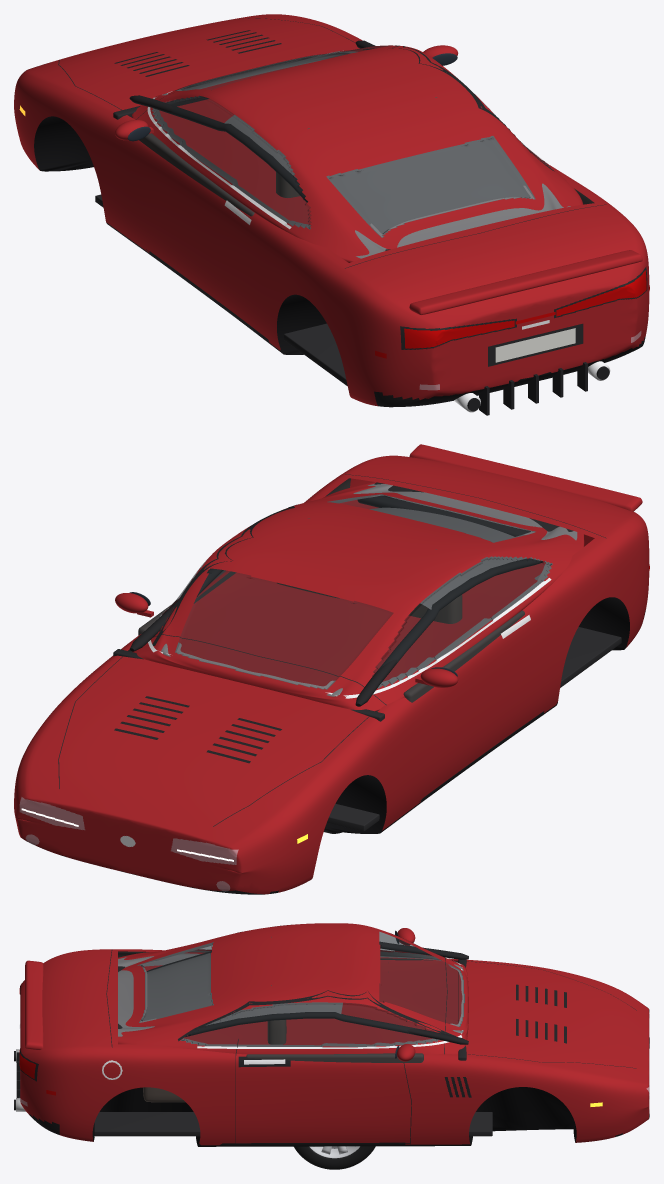
The model's file is car.glb.
The picture shows the model from 3 angles, top to bottom: view 1: azimuth 30°, elevation 25°; view 2: azimuth 150°, elevation 25°; view 3: azimuth 270°, elevation 25°; orthographic projection. The views are drawn at different scales.
Visible parts, largest first — view 1: Part_CarPaint.003, Part_CarPaint.006, Part_Headliner.001, Part_Headliner, Part_CarPaint.007, Part_CarPaint.005, Part_CarPaint.004, Part_CarPaint.008, Part_BlackPlastic, Part_CarPaint.001, Part_CarPaint.014, Part_CarPaint.009 (+1 smaller); view 2: Part_CarPaint.003, Part_CarPaint.006, Part_CarPaint.007, Part_Headliner, Part_CarPaint.004, Part_CarPaint.005, Part_Headliner.001, Part_BlackPlastic, Part_CarPaint.010, Part_CarPaint.014, Part_CarPaint.001, Part_CarPaint (+1 smaller); view 3: Part_CarPaint.003, Part_CarPaint.006, Part_CarPaint.004, Part_Headliner.001, Part_CarPaint.007, Part_CarPaint.005, Part_Headliner, Part_BlackPlastic.001, Part_CarPaint.014, Part_CarPaint.001, W_Rubber_Tire, Part_CarPaint (+1 smaller).
Part boxes in pixels (x1,y1,x2,y2): Part_CarPaint.003: (14, 14, 649, 406); Part_CarPaint.006: (152, 46, 550, 237); Part_Headliner.001: (224, 115, 530, 234); Part_Headliner: (152, 51, 570, 258); Part_CarPaint.007: (24, 18, 647, 385); Part_CarPaint.005: (106, 30, 645, 415); Part_CarPaint.004: (34, 116, 326, 354); Part_CarPaint.008: (375, 270, 649, 358); Part_BlackPlastic: (129, 95, 307, 202); Part_CarPaint.001: (147, 50, 610, 412); Part_CarPaint.014: (139, 133, 254, 216); Part_CarPaint.009: (495, 328, 575, 362); Part_CarPaint.003: (14, 444, 649, 894); Part_CarPaint.006: (162, 494, 552, 689); Part_CarPaint.007: (58, 474, 621, 831); Part_Headliner: (161, 483, 577, 696); Part_CarPaint.004: (324, 597, 629, 833); Part_CarPaint.005: (114, 504, 645, 893); Part_Headliner.001: (370, 507, 526, 609); Part_BlackPlastic: (355, 558, 544, 706); Part_CarPaint.010: (19, 797, 238, 891); Part_CarPaint.014: (138, 571, 524, 702); Part_CarPaint.001: (120, 578, 551, 846); Part_CarPaint: (277, 518, 462, 623); Part_CarPaint.003: (20, 923, 649, 1145); Part_CarPaint.006: (138, 932, 464, 1046); Part_CarPaint.004: (92, 1087, 576, 1146); Part_Headliner.001: (142, 953, 342, 1025); Part_CarPaint.007: (20, 949, 649, 1146); Part_CarPaint.005: (14, 925, 649, 1146); Part_Headliner: (118, 942, 464, 1046); Part_BlackPlastic.001: (185, 1012, 468, 1044); Part_CarPaint.014: (246, 958, 423, 1062); Part_CarPaint.001: (16, 951, 462, 1111); W_Rubber_Tire: (294, 1146, 375, 1169); Part_CarPaint: (143, 937, 286, 1102).
Bounding box in the file's own units: 2.22 × 1.66 × 4.63.
